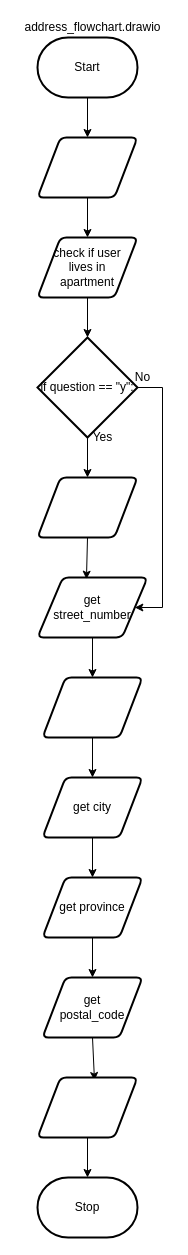
This 188x1255 diagram has some shape labels left out. Here are the shapes that lost their labels. From the top down, the centre of each, then its label:
(x=87, y=167): get full_name
(x=87, y=507): get apartment _number
(x=92, y=707): get street_name
(x=87, y=1107): return formatted
